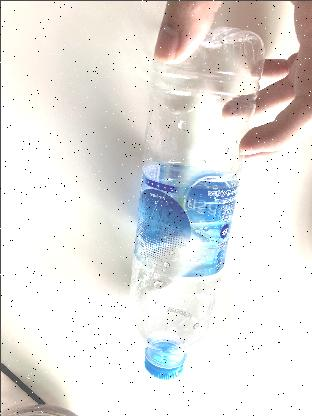Plastic Bottle: (124, 13, 266, 382)
